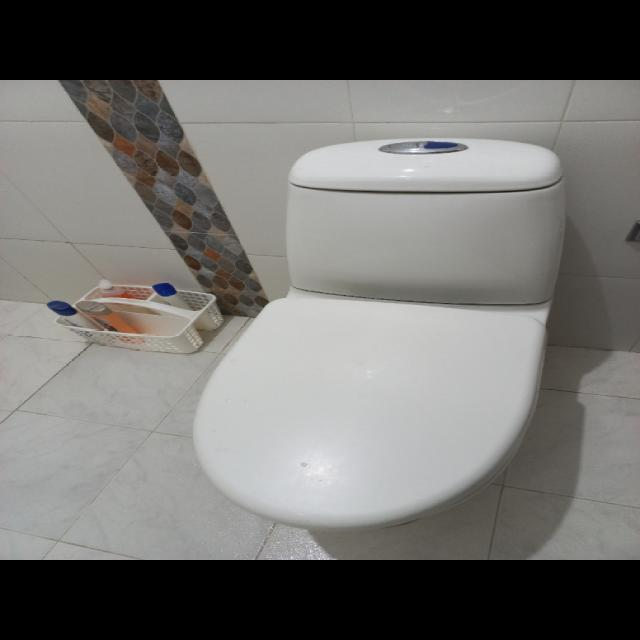toilet: (190, 136, 566, 533)
